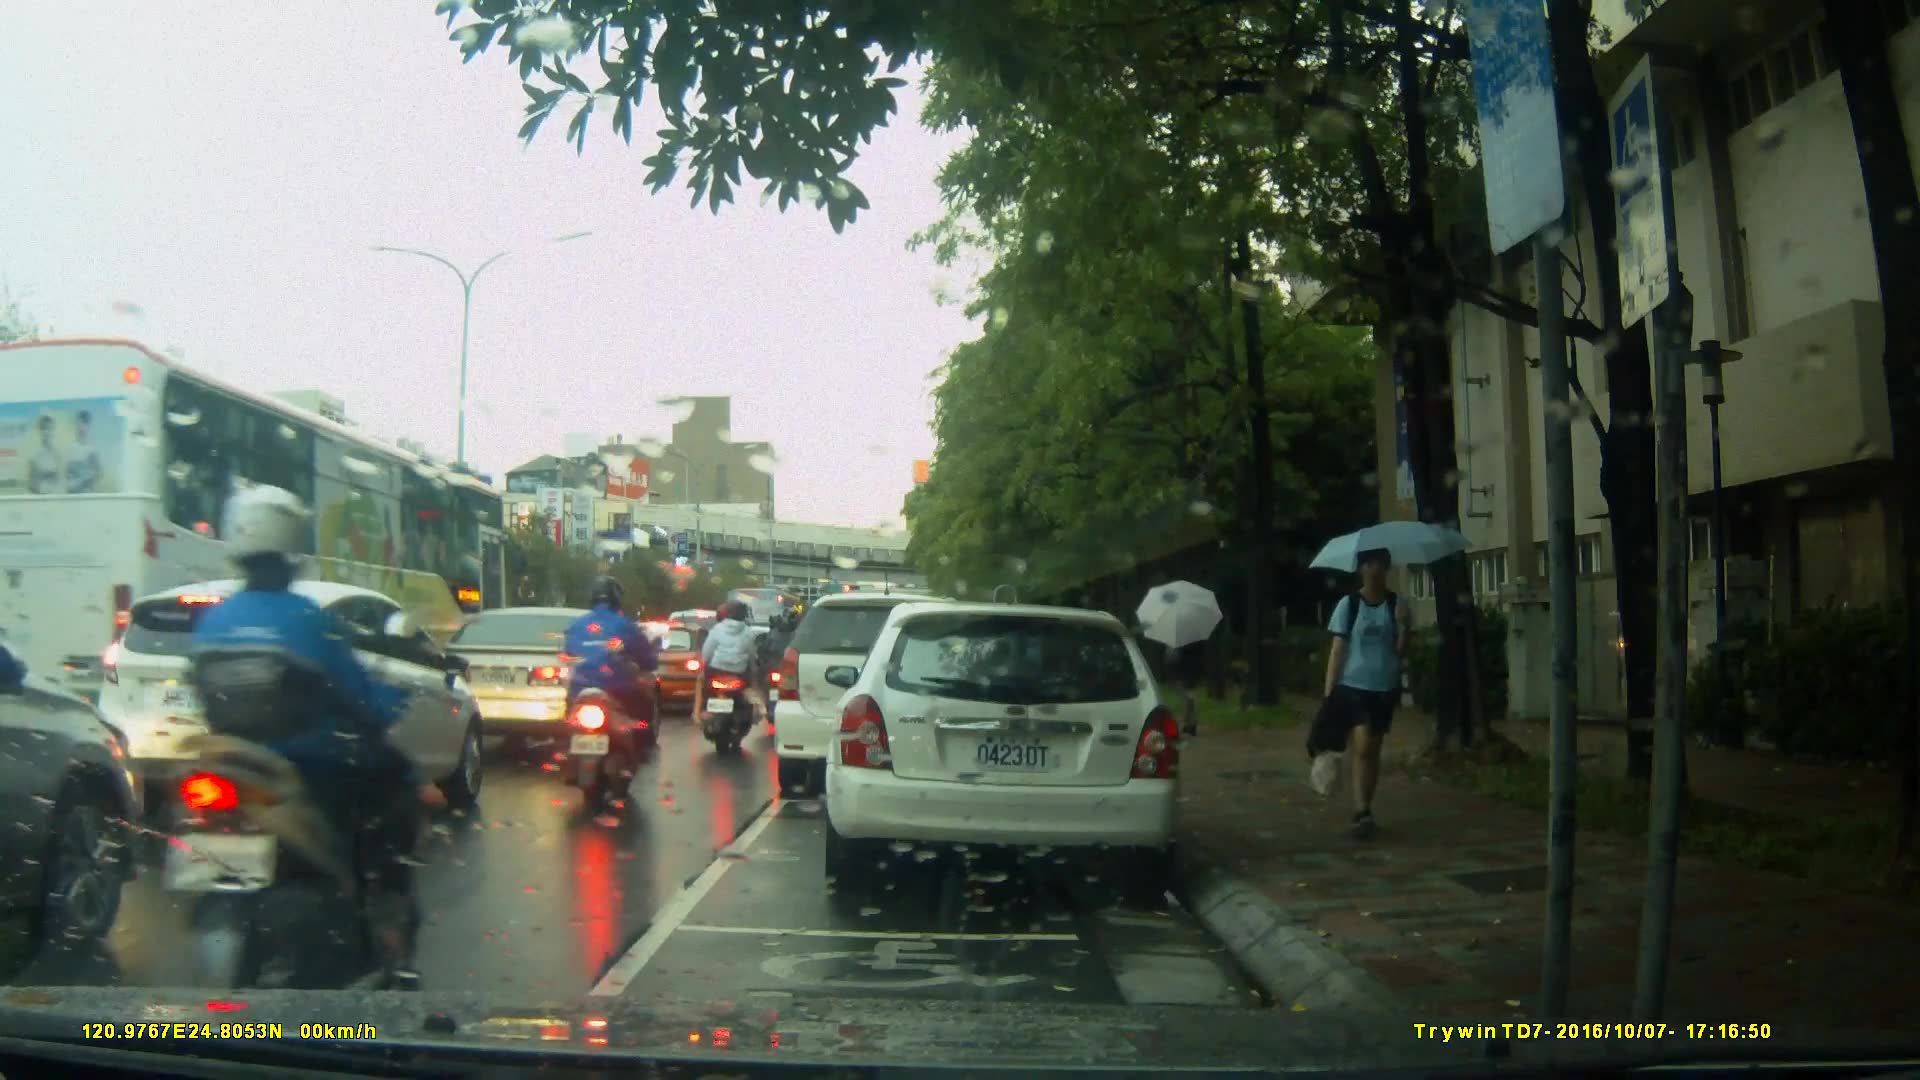pedestrian: (1310, 546, 1444, 833), (1161, 610, 1215, 738)
rider: (159, 459, 426, 1033), (568, 576, 657, 802), (704, 595, 773, 766), (764, 608, 802, 730)
vehicle: (5, 320, 512, 785), (835, 594, 1194, 898), (88, 576, 485, 846), (776, 590, 1026, 784), (409, 604, 657, 756), (609, 619, 728, 718)
